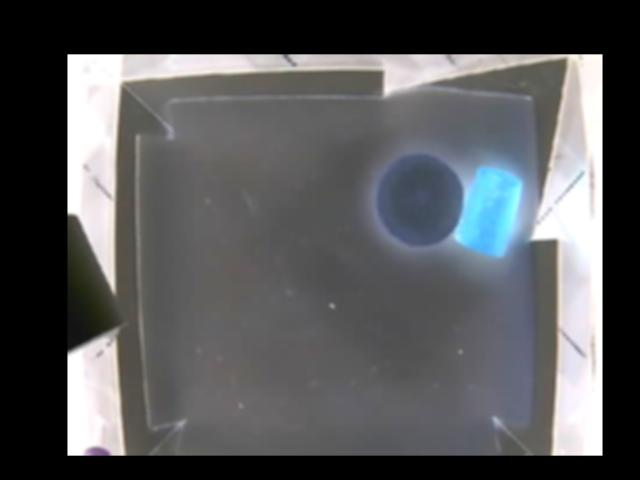Carrot: (455, 164, 521, 258)
Mooli: (378, 152, 464, 246)
